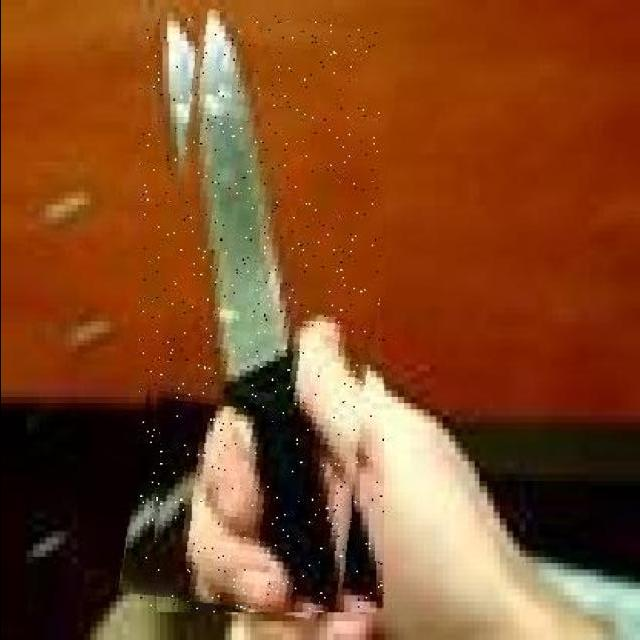Knife: (138, 14, 384, 612)
